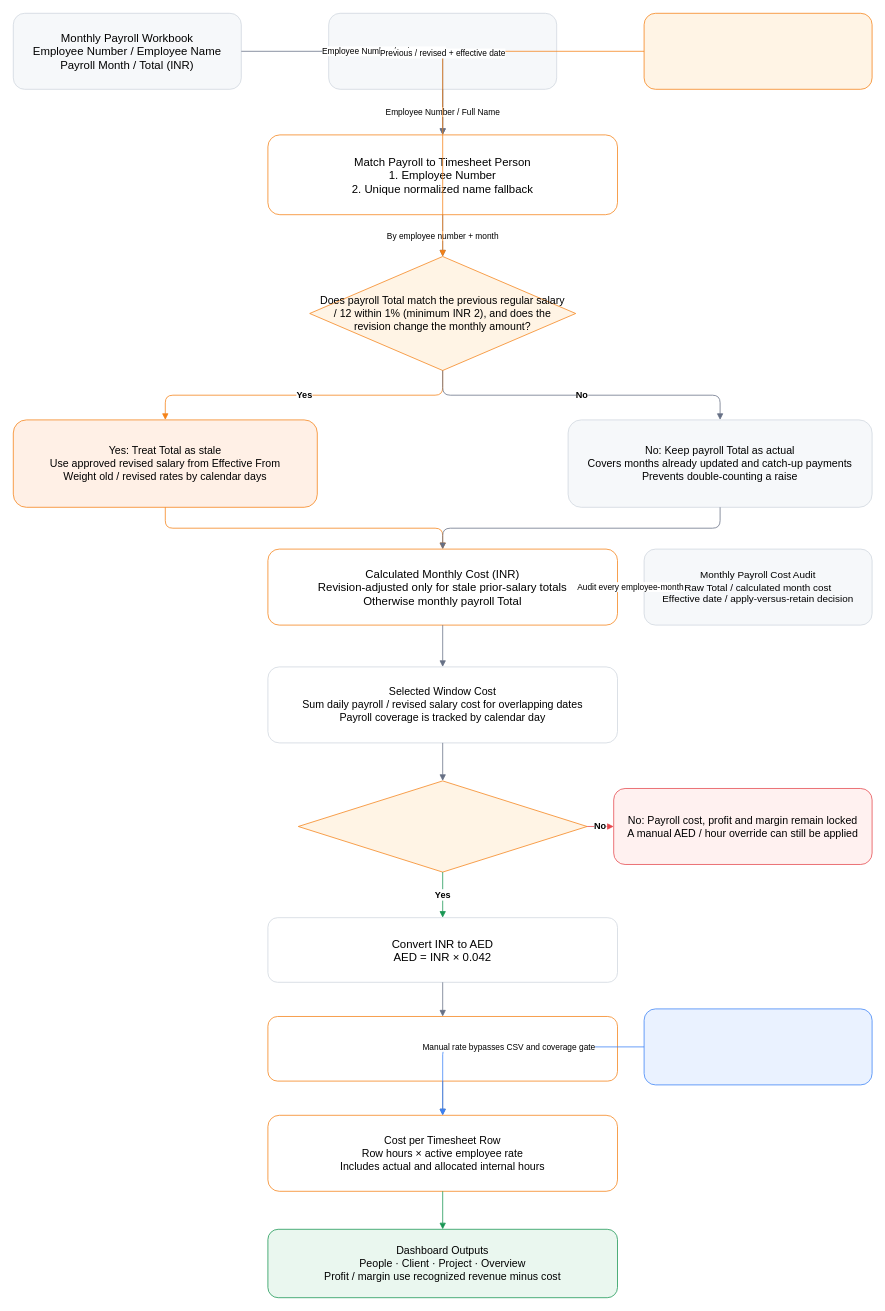
Some shapes in this 885 by 1311 pixel diagram are drawn without their labels. The box of each missing label's shape, as (x1, y1, x2, y2) in pixels:
Approved Salary Revisions Previous / Revised Regular Salary (INR) Effective From: (643, 13, 872, 89)
Employee Cost Rate Window cost (AED) / employee logged hours: (267, 1016, 618, 1081)
Employee Master Employee Number / Full Name Timesheet identity: (328, 13, 557, 89)
Is the entire selected date window covered by payroll?: (298, 780, 587, 872)
Manual Override Fixed AED / hour for all employees Overrides CSV until cleared: (643, 1008, 872, 1085)
